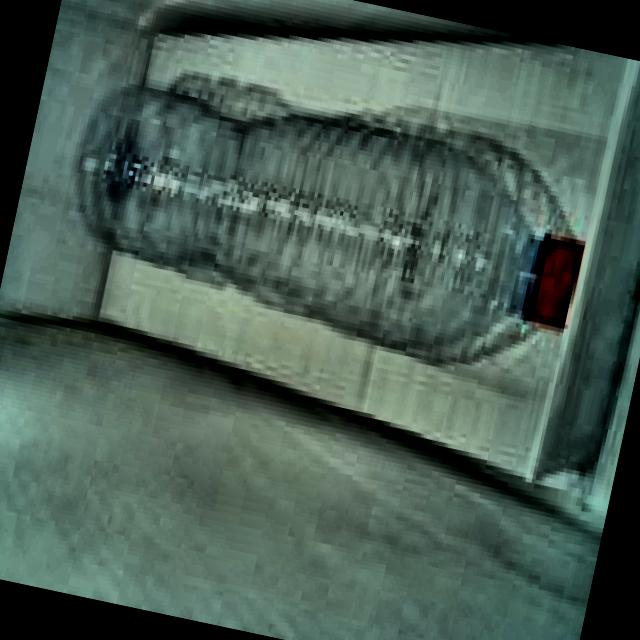plastic bottle: (83, 79, 585, 354)
